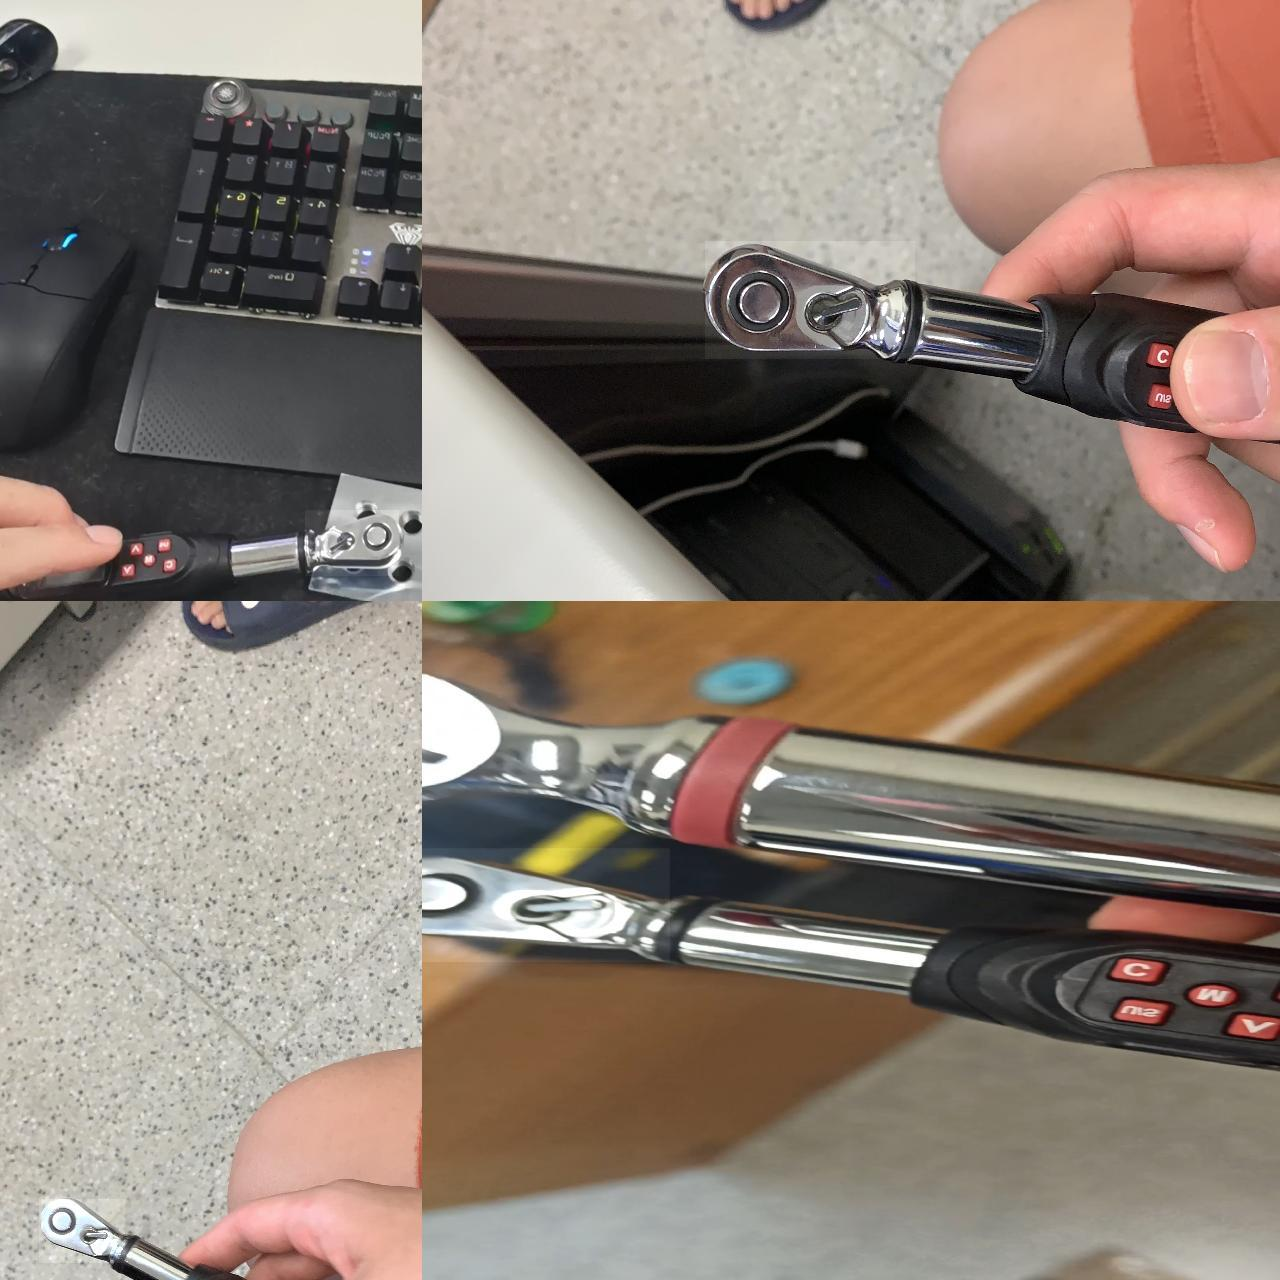Tool: (422, 847, 670, 962), (704, 241, 915, 359), (305, 510, 399, 576), (39, 1199, 125, 1262)
